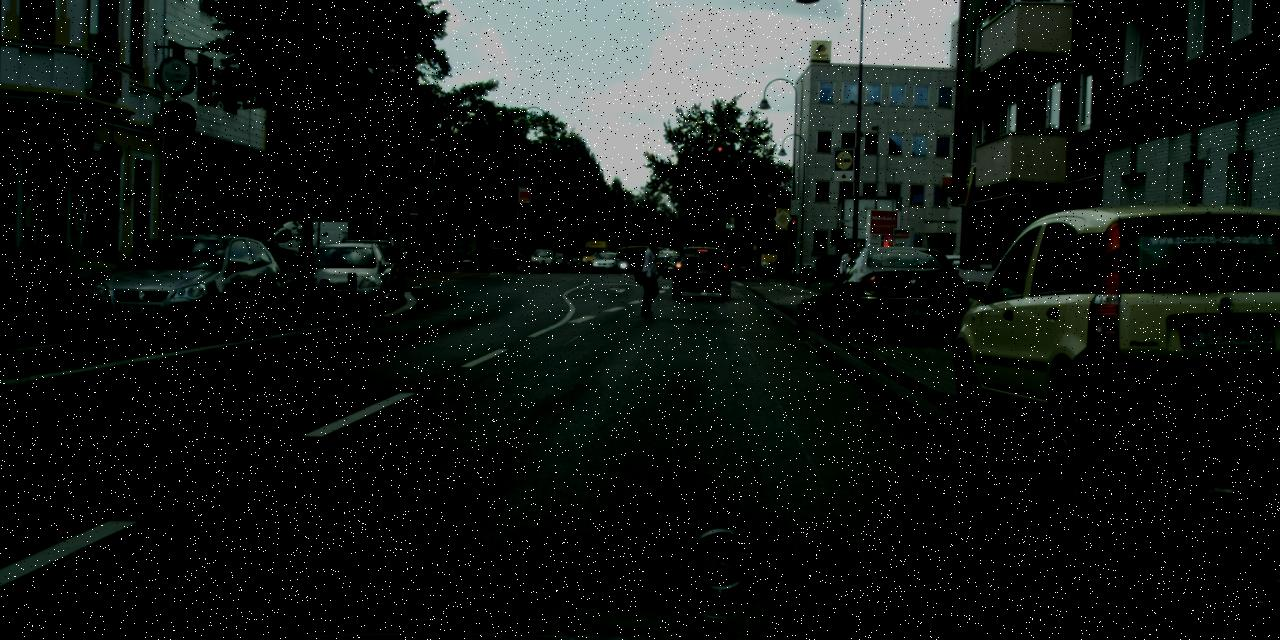ped: (634, 237, 665, 314), (837, 243, 859, 300), (729, 248, 739, 274), (774, 250, 784, 274)
